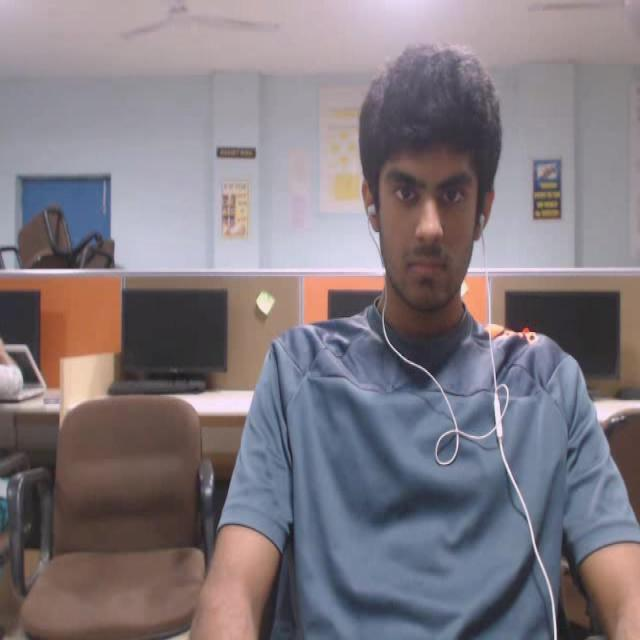Engaged: (338, 27, 544, 333)
